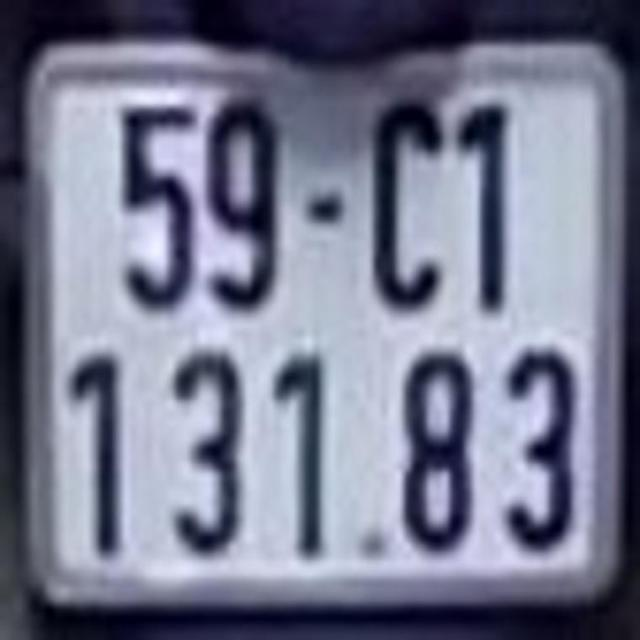1: (456, 100, 516, 313), (66, 354, 129, 556), (272, 349, 328, 558)
3: (169, 345, 244, 556), (504, 342, 576, 552)
5: (116, 99, 198, 310)
8: (401, 346, 474, 553)
9: (205, 99, 278, 311)
C: (368, 97, 447, 310)
